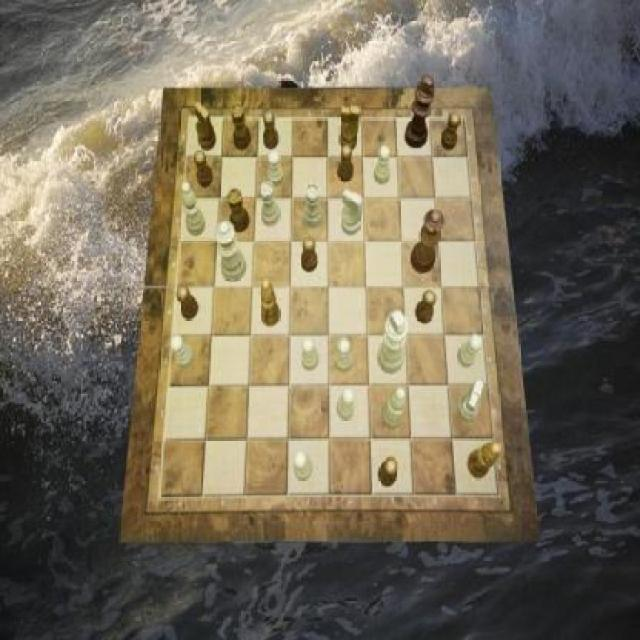bishop: (468, 442, 500, 479), (260, 277, 280, 326)
black-bishop: (404, 76, 434, 150)
black-king: (194, 101, 216, 150), (340, 106, 360, 152)
black-knight: (442, 112, 462, 151), (194, 149, 214, 187), (177, 285, 199, 319), (416, 289, 436, 324), (378, 457, 398, 488), (300, 237, 318, 271), (263, 111, 279, 149), (338, 145, 354, 182)
black-pawn: (411, 210, 444, 274)
black-queen: (228, 188, 250, 233), (231, 103, 251, 151)
black-rook: (182, 182, 206, 236), (382, 388, 406, 430)
white-bishop: (378, 310, 409, 374)
white-king: (457, 378, 484, 421), (342, 190, 362, 236)
white-knight: (457, 332, 481, 367), (170, 336, 194, 370), (374, 146, 391, 185), (337, 388, 355, 422), (335, 339, 353, 373), (294, 451, 313, 482), (302, 337, 319, 371), (268, 151, 284, 185)
white-pawn: (215, 220, 248, 282)
white-queen: (260, 180, 280, 226), (303, 183, 323, 229)
